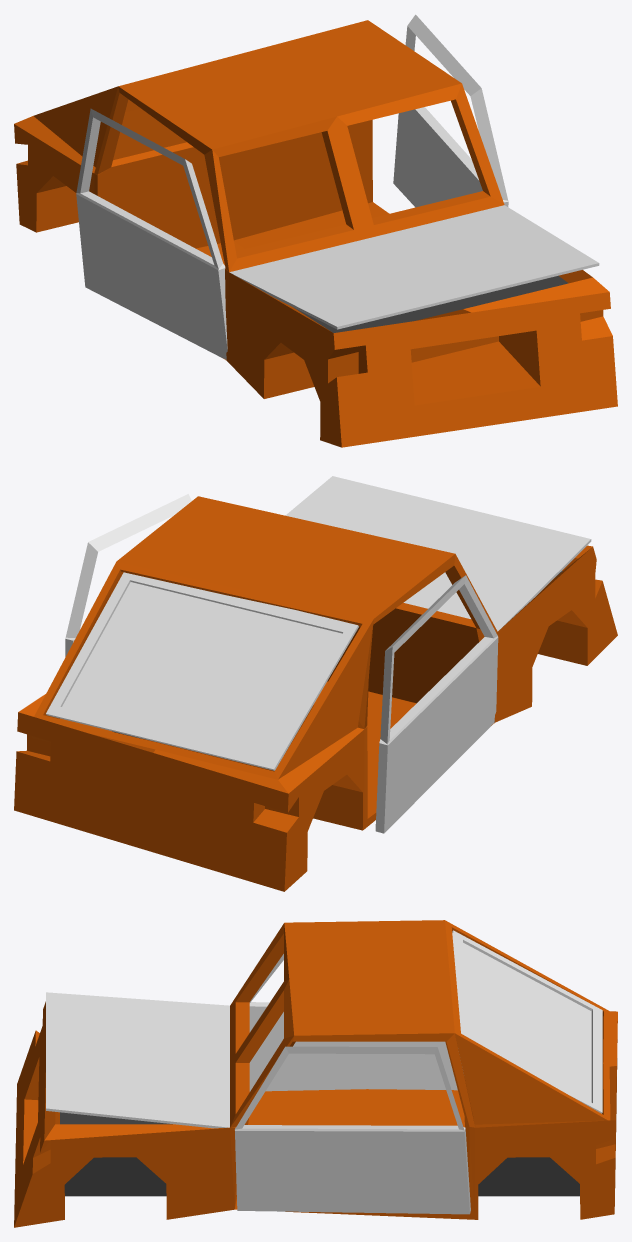
File: Auto junk2.fbx
3 views of the same model, one above another, from view 1: azimuth 30°, elevation 25°; view 2: azimuth 150°, elevation 25°; view 3: azimuth 270°, elevation 25° (orthographic). The views are drawn at different scales.
Parts seen in each view (by area): view 1: Cube.005, Cube.009, Cube.007, Cube.006; view 2: Cube.005, Cube.008, Cube.009, Cube.007, Cube.006; view 3: Cube.005, Cube.006, Cube.009, Cube.008, Cube.007.
Boxes of the visible parts, x1=… form: Cube.005: x1=14, y1=20, x2=617, y2=447; Cube.009: x1=229, y1=205, x2=599, y2=329; Cube.007: x1=76, y1=108, x2=227, y2=359; Cube.006: x1=393, y1=14, x2=508, y2=207; Cube.005: x1=14, y1=496, x2=617, y2=891; Cube.008: x1=46, y1=572, x2=358, y2=770; Cube.009: x1=285, y1=476, x2=591, y2=631; Cube.007: x1=375, y1=575, x2=498, y2=833; Cube.006: x1=65, y1=494, x2=191, y2=656; Cube.005: x1=14, y1=920, x2=617, y2=1227; Cube.006: x1=235, y1=1046, x2=470, y2=1214; Cube.009: x1=46, y1=992, x2=229, y2=1128; Cube.008: x1=452, y1=930, x2=602, y2=1113; Cube.007: x1=249, y1=954, x2=457, y2=1091.
Size of the model in its own units: 860 by 533 by 1502.
